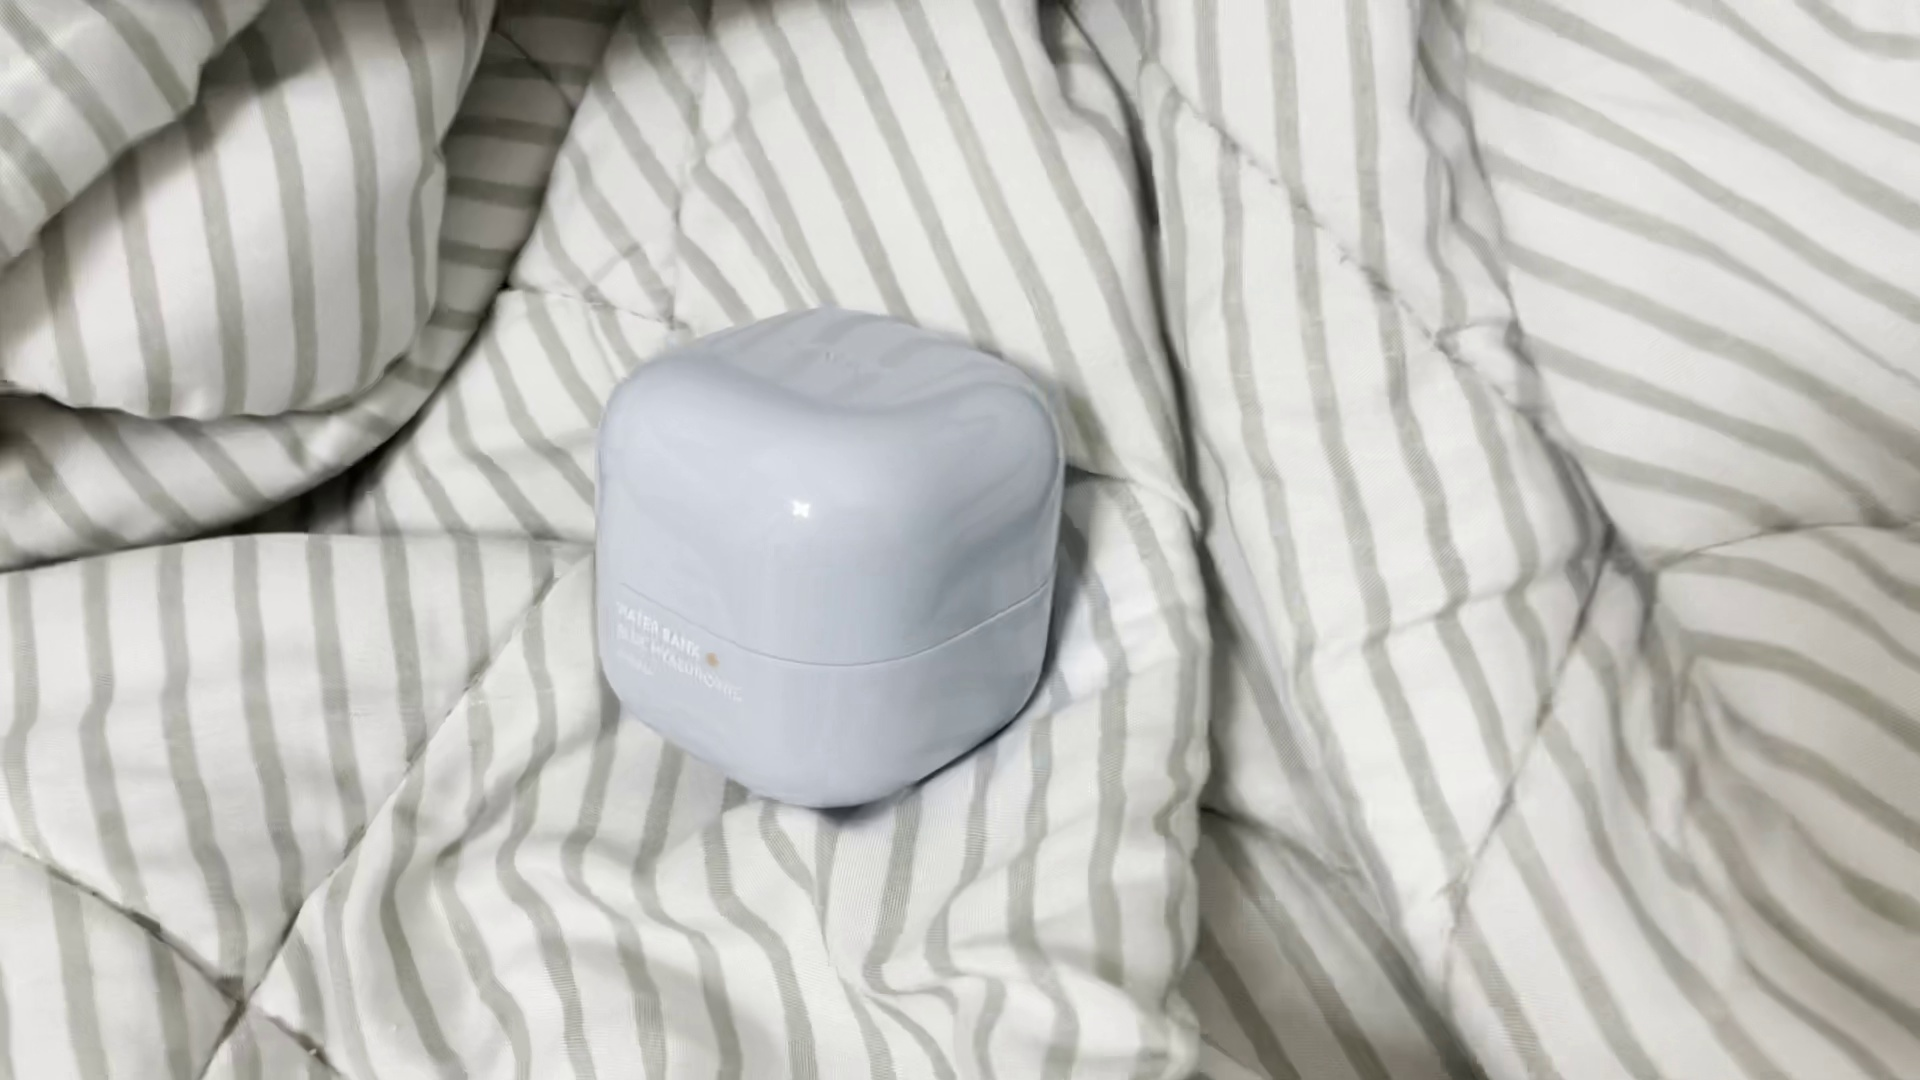cream: (589, 303, 1062, 808)
